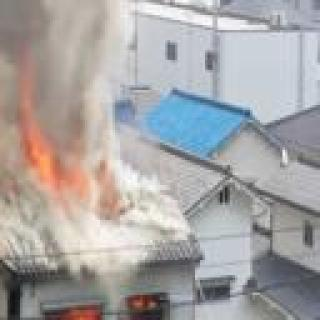fire: (29, 130, 93, 199), (51, 295, 169, 320)
